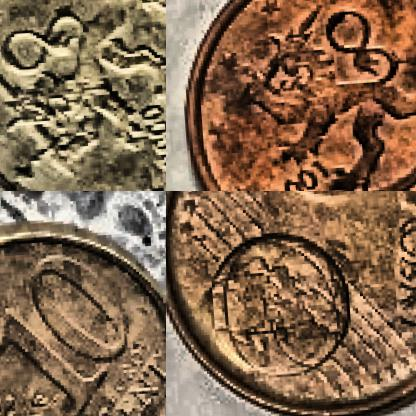coin: (166, 191, 415, 415), (174, 0, 415, 190), (0, 217, 165, 415), (0, 0, 165, 190)
